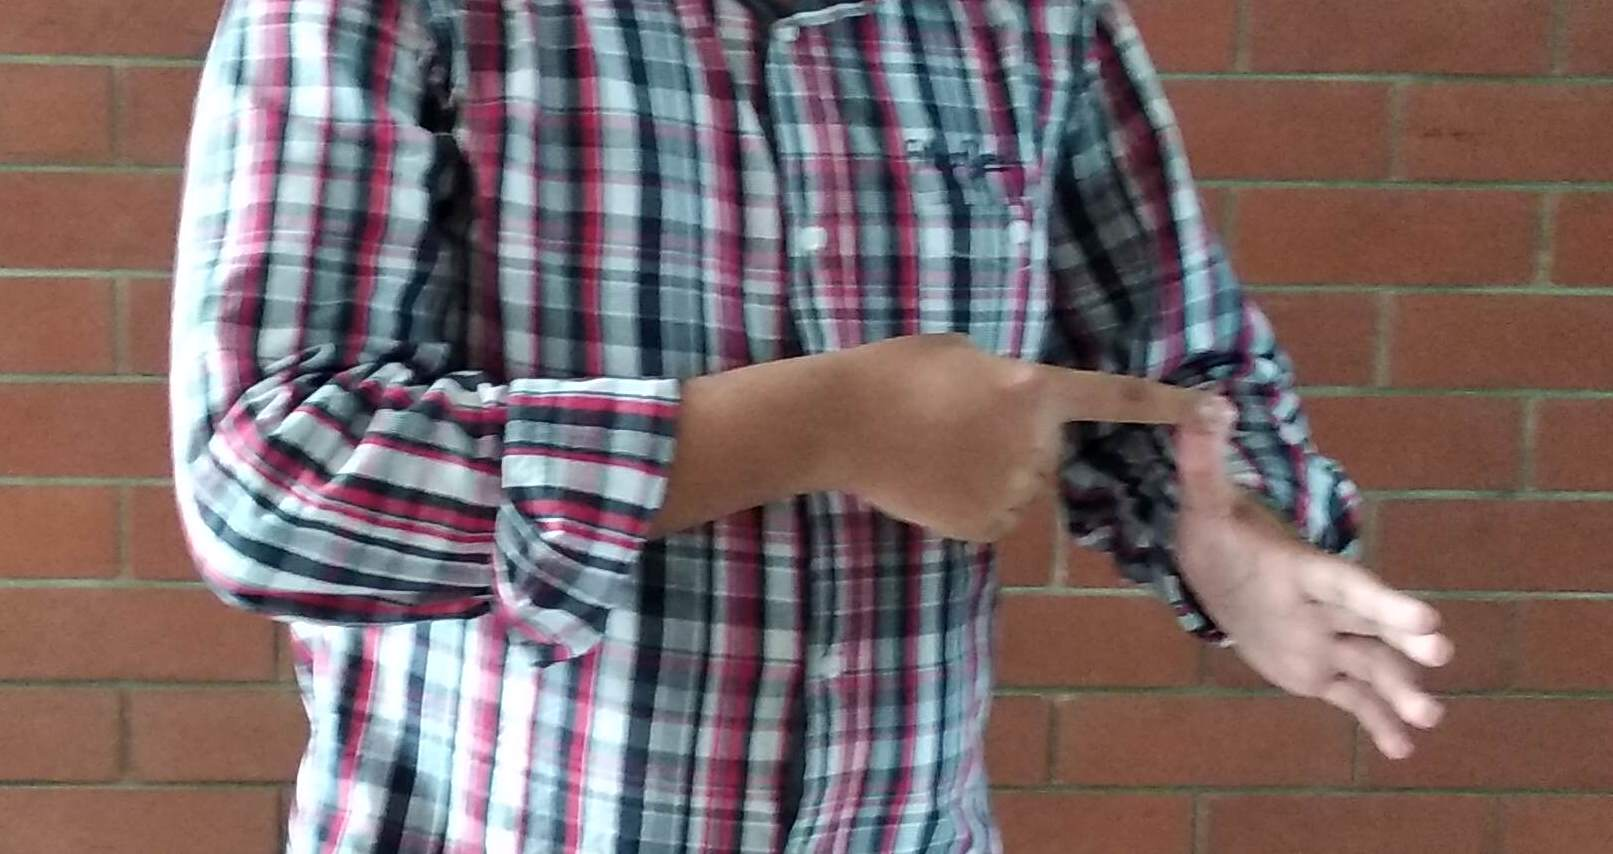a: (849, 345, 1455, 770)
